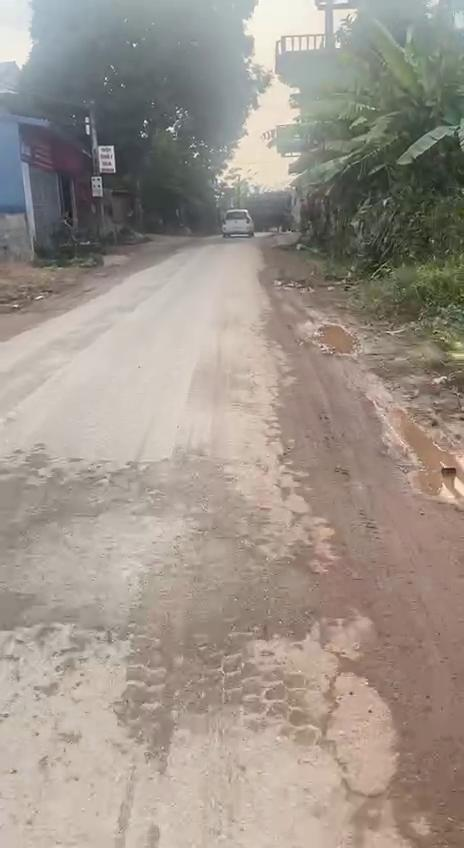pothole: (377, 406, 464, 506), (299, 314, 364, 358)
